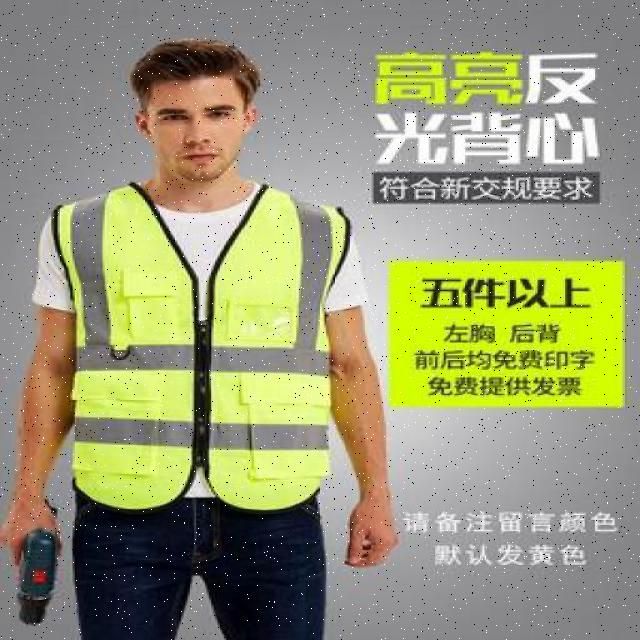Person: (8, 17, 389, 640)
Vest: (73, 187, 324, 514)
